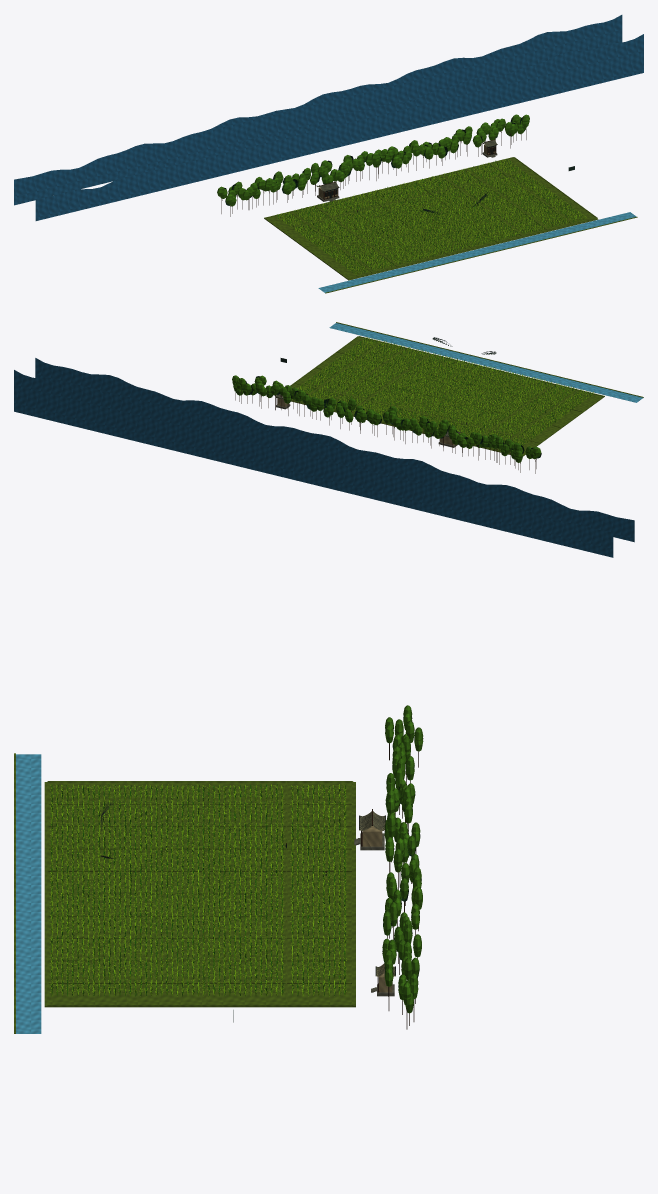
File: JingXi_Aligned_Summer.glb
3 views of the same model, one above another, from view 1: azimuth 30°, elevation 25°; view 2: azimuth 150°, elevation 25°; view 3: azimuth 270°, elevation 25° (orthographic). The views are drawn at different scales.
Visible parts, largest first — view 1: Summer_MountainRidge_mountain, Summer_FieldEarth_earth, Summer_Rice_Blades_light, Summer_Rice_Blades_rice, Summer_TreeCrowns_crown, Summer_YuquanCanal_water, Summer_CrossBanks_earth, Summer_FieldBanks_earth, Summer_TreeTrunks_wood, Summer_NearBank_earth, Summer_TreeCrowns_leaf; view 2: Summer_MountainRidge_mountain, Summer_FieldEarth_earth, Summer_Rice_Blades_light, Summer_Rice_Blades_rice, Summer_TreeCrowns_crown, Summer_YuquanCanal_water, Summer_FieldBanks_earth, Summer_CrossBanks_earth, Summer_TreeTrunks_wood, Summer_NearBank_earth, Summer_TreeCrowns_leaf; view 3: Summer_FieldEarth_earth, Summer_Rice_Blades_light, Summer_Rice_Blades_rice, Summer_TreeCrowns_crown, Summer_YuquanCanal_water, Summer_FieldBanks_earth, Summer_CrossBanks_earth.
Boxes of the visible parts, x1=… form: Summer_MountainRidge_mountain: x1=14, y1=15, x2=643, y2=220; Summer_FieldEarth_earth: x1=264, y1=157, x2=598, y2=280; Summer_Rice_Blades_light: x1=276, y1=159, x2=586, y2=274; Summer_Rice_Blades_rice: x1=276, y1=159, x2=584, y2=275; Summer_TreeCrowns_crown: x1=217, y1=114, x2=529, y2=206; Summer_YuquanCanal_water: x1=318, y1=212, x2=636, y2=292; Summer_CrossBanks_earth: x1=265, y1=157, x2=596, y2=278; Summer_FieldBanks_earth: x1=264, y1=157, x2=597, y2=279; Summer_TreeTrunks_wood: x1=221, y1=129, x2=526, y2=216; Summer_NearBank_earth: x1=325, y1=217, x2=637, y2=293; Summer_TreeCrowns_leaf: x1=224, y1=117, x2=524, y2=205; Summer_MountainRidge_mountain: x1=14, y1=358, x2=634, y2=557; Summer_FieldEarth_earth: x1=276, y1=336, x2=604, y2=456; Summer_Rice_Blades_light: x1=297, y1=337, x2=593, y2=444; Summer_Rice_Blades_rice: x1=298, y1=338, x2=591, y2=445; Summer_TreeCrowns_crown: x1=232, y1=375, x2=541, y2=462; Summer_YuquanCanal_water: x1=329, y1=323, x2=643, y2=402; Summer_FieldBanks_earth: x1=290, y1=336, x2=604, y2=455; Summer_CrossBanks_earth: x1=291, y1=336, x2=603, y2=453; Summer_TreeTrunks_wood: x1=235, y1=390, x2=536, y2=473; Summer_NearBank_earth: x1=336, y1=322, x2=643, y2=397; Summer_TreeCrowns_leaf: x1=235, y1=376, x2=541, y2=458; Summer_FieldEarth_earth: x1=44, y1=782, x2=355, y2=1007; Summer_Rice_Blades_light: x1=49, y1=784, x2=347, y2=996; Summer_Rice_Blades_rice: x1=50, y1=784, x2=347, y2=996; Summer_TreeCrowns_crown: x1=382, y1=705, x2=423, y2=1013; Summer_YuquanCanal_water: x1=16, y1=754, x2=41, y2=1033; Summer_FieldBanks_earth: x1=48, y1=781, x2=352, y2=1006; Summer_CrossBanks_earth: x1=47, y1=781, x2=353, y2=1005.
Size of the model in its own units: 195 by 13.26 by 95.15.
Materials: 15 (15 with a texture image).
